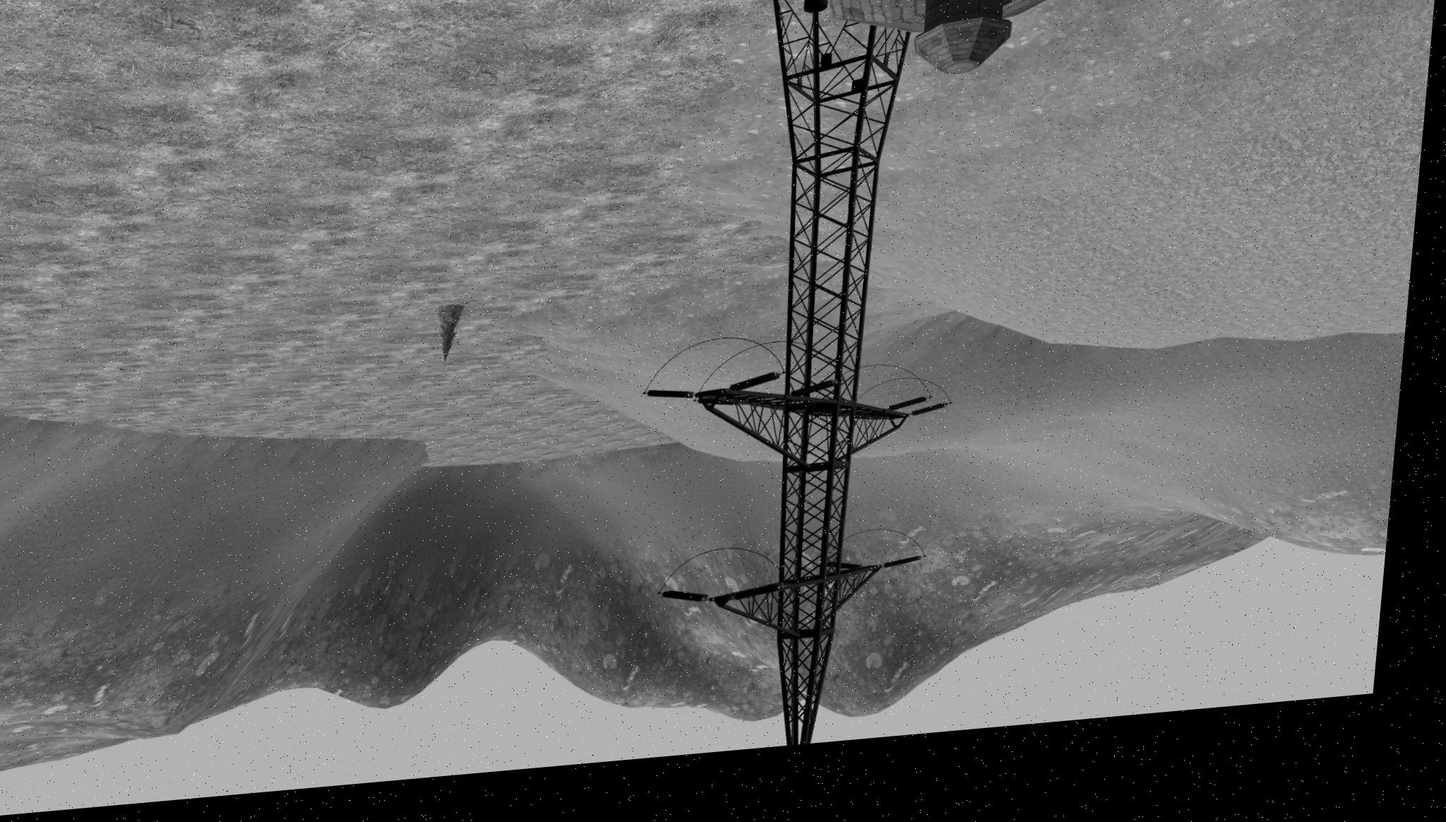tower: (671, 40, 945, 750)
